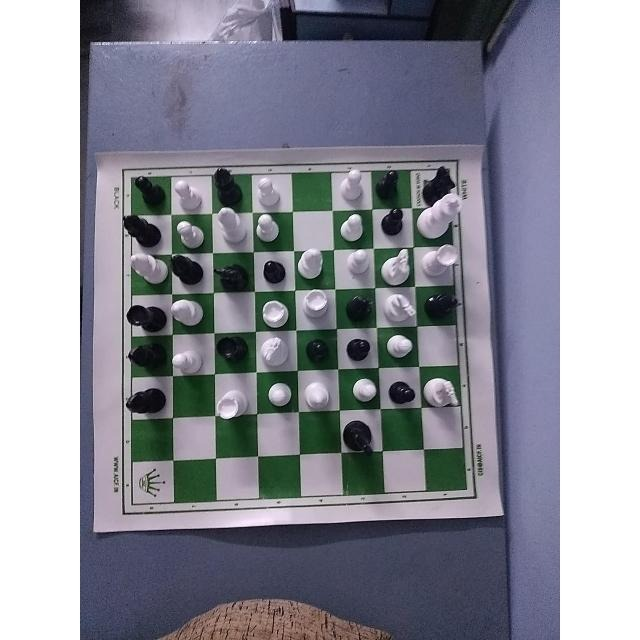black-bishop: (119, 212, 164, 248), (211, 161, 245, 208), (127, 338, 171, 374), (418, 288, 462, 324), (165, 252, 207, 288), (343, 287, 381, 325), (125, 385, 168, 418)
black-knight: (342, 414, 382, 457), (420, 161, 458, 203), (215, 255, 252, 295)
black-pawn: (132, 172, 168, 211), (382, 373, 420, 409), (344, 332, 376, 368), (257, 256, 293, 284), (307, 334, 336, 367), (374, 167, 402, 200), (376, 207, 405, 235)
black-rook: (122, 297, 171, 333), (213, 332, 253, 368)
white-bishop: (122, 250, 171, 294), (215, 203, 248, 250), (167, 295, 202, 334), (294, 247, 326, 286), (299, 380, 335, 414)
white-king: (419, 189, 464, 238)
white-knight: (381, 291, 422, 326), (423, 377, 465, 411), (259, 332, 291, 373), (383, 246, 415, 282)
white-pawn: (173, 214, 211, 251), (381, 330, 421, 364), (334, 169, 367, 207), (171, 174, 205, 210), (170, 346, 213, 373), (266, 379, 299, 412), (351, 376, 383, 409), (337, 213, 373, 241), (257, 175, 285, 210), (341, 248, 377, 275), (254, 210, 281, 246)
white-rook: (419, 239, 463, 280), (214, 386, 250, 426), (300, 292, 336, 332), (261, 293, 295, 333)
